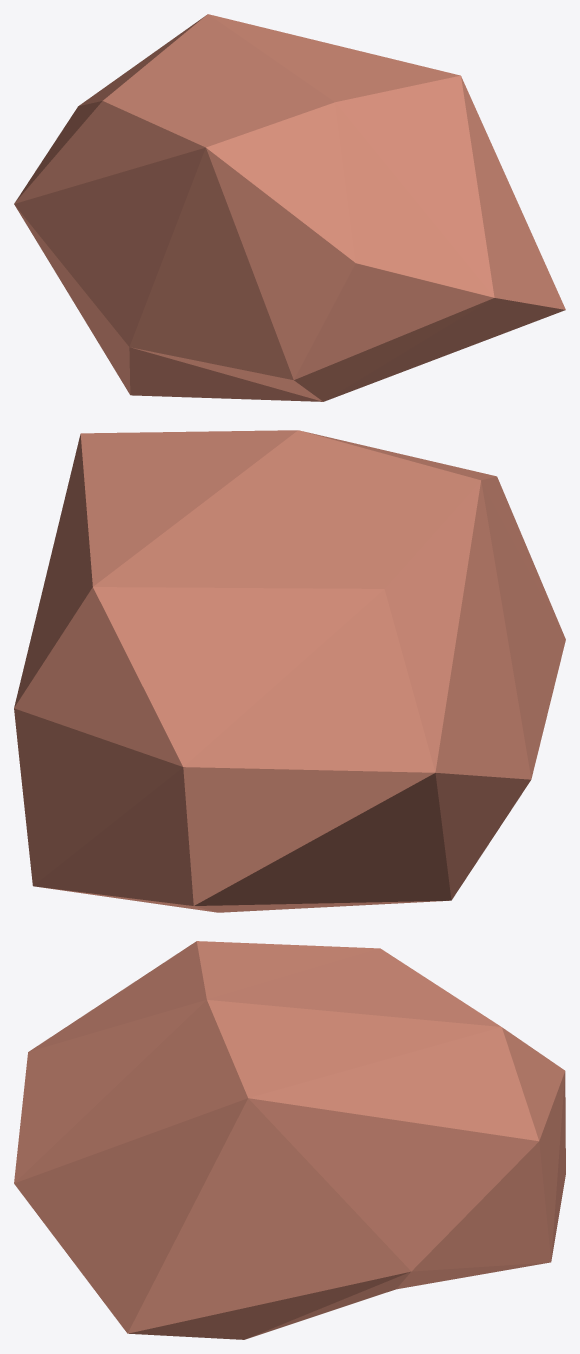
File: stone_002.fbx
The picture shows the model from 3 angles, top to bottom: view 1: azimuth 30°, elevation 25°; view 2: azimuth 150°, elevation 25°; view 3: azimuth 270°, elevation 25°; orthographic projection. The views are drawn at different scales.
Parts seen in each view (by area): view 1: stone_002; view 2: stone_002; view 3: stone_002.
Part boxes in pixels (<box>): stone_002: <box>14,14,565,401</box>; stone_002: <box>14,430,565,912</box>; stone_002: <box>14,941,565,1339</box>.
Bounding box in the file's own units: 79.24 × 89.78 × 54.73.
